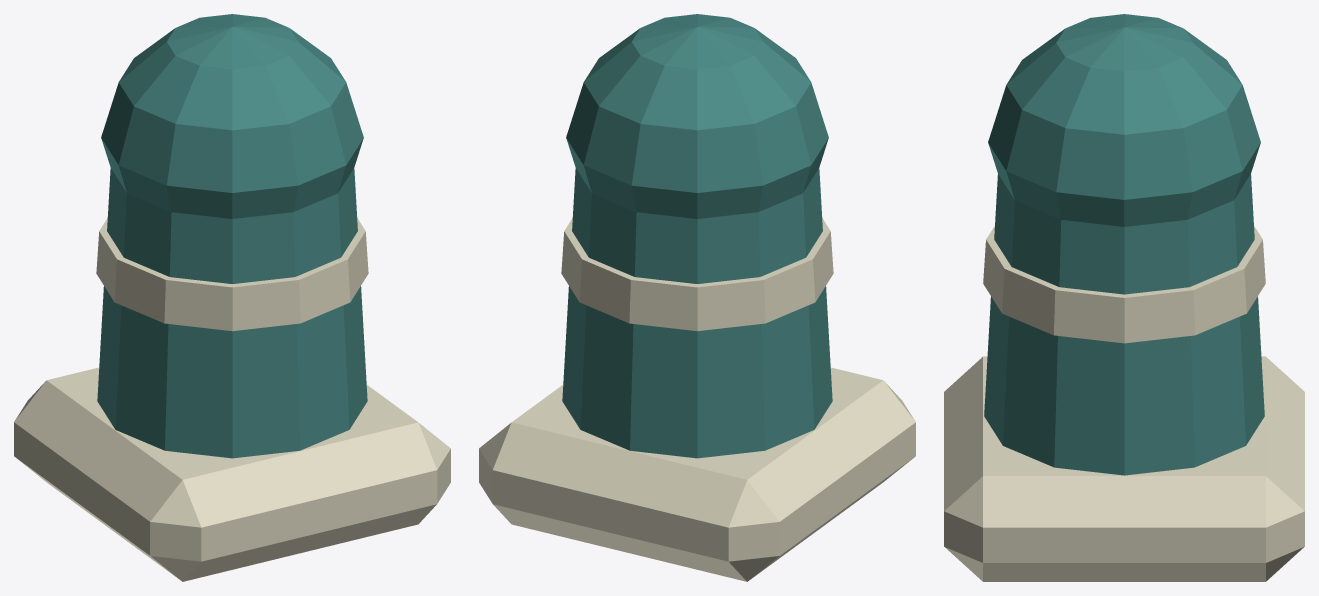
File: bollard.glb
The picture shows the model from 3 angles, left to right: view 1: azimuth 30°, elevation 25°; view 2: azimuth 150°, elevation 25°; view 3: azimuth 270°, elevation 25°; orthographic projection. The views are drawn at different scales.
Visible parts, largest first — view 1: bollard; view 2: bollard; view 3: bollard.
Boxes of the visible parts, x1,y1,x2,y2 form: bollard: (14,14,450,581); bollard: (479,14,915,581); bollard: (944,14,1304,581).
Size of the model in its own units: 0.37 by 0.56 by 0.37.
